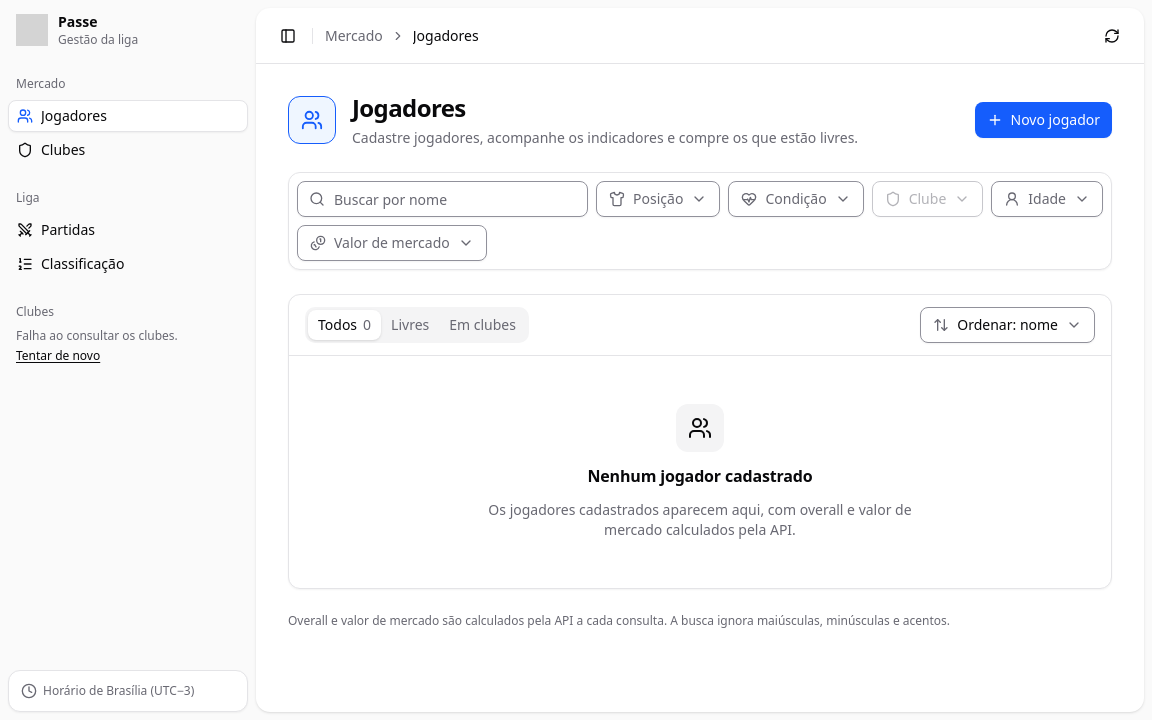
it: AppLayout › mostra o message da API quando os clubes não carregam e permite tentar de novo
The image size is (1152, 720).
Expected: the message reads "Falha ao consultar os clubes.", x1=16 y1=327 x2=178 y2=344
Click the button "Tentar de novo": (58, 356) x1=16 y1=348 x2=100 y2=364
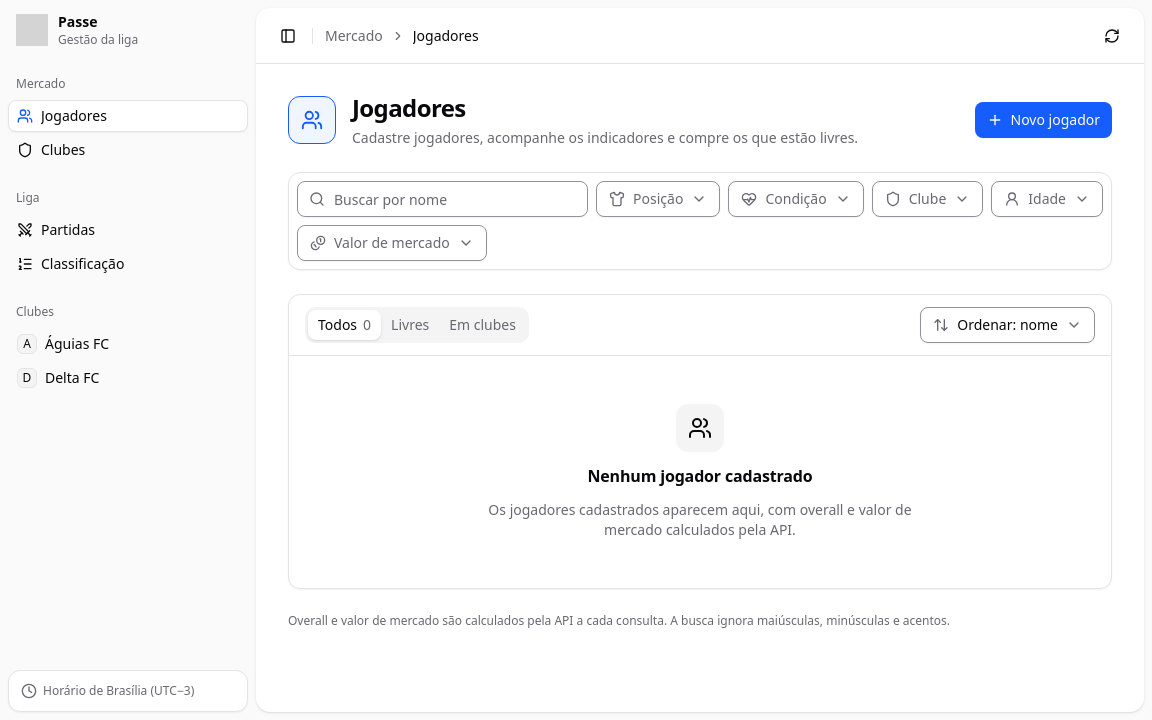
Result: the link "A Águias FC" is shown at x1=17 y1=334 x2=109 y2=354
Result: the message "Falha ao consultar os clubes." is gone
